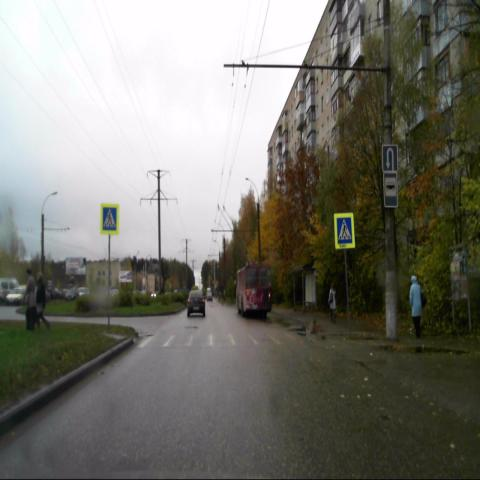6_3_1: (382, 144, 398, 173)
